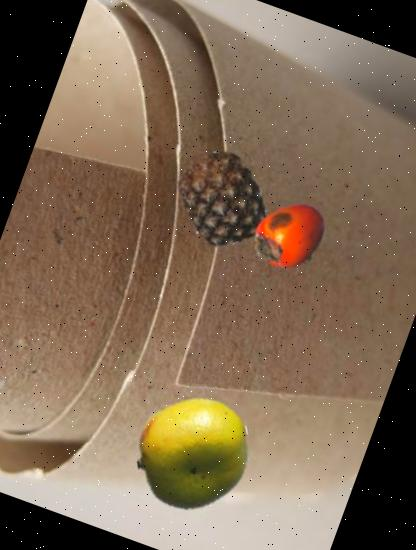Kaki: (238, 186, 341, 289)
Pineapple: (162, 139, 282, 259)
Pomelo: (120, 381, 266, 526)
